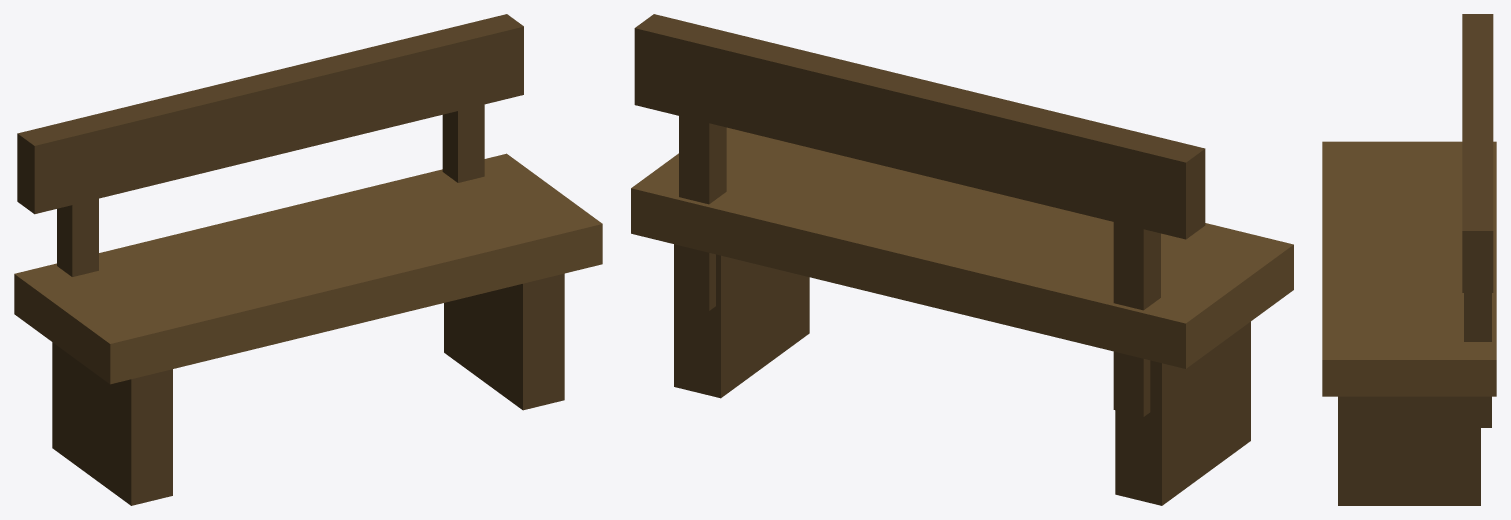
Rendered from worker_bench.glb.
3 views of the same model, side by side, from view 1: azimuth 30°, elevation 25°; view 2: azimuth 150°, elevation 25°; view 3: azimuth 270°, elevation 25° (orthographic). The views are drawn at different scales.
Visible parts, largest first — view 1: worker_bench; view 2: worker_bench; view 3: worker_bench.
Boxes of the visible parts, <box> form: worker_bench: <box>14,14,602,505</box>; worker_bench: <box>631,14,1293,505</box>; worker_bench: <box>1322,14,1496,505</box>.
Bounding box in the file's own units: 1.66 × 1.02 × 0.56.
